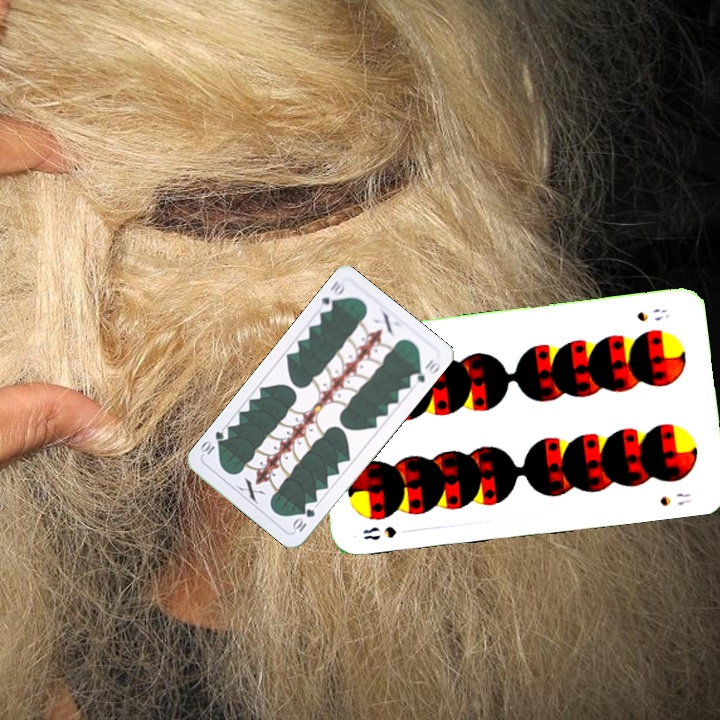G10: (314, 276, 347, 316), (288, 505, 318, 535)
S8: (359, 522, 399, 543), (633, 304, 672, 324)
